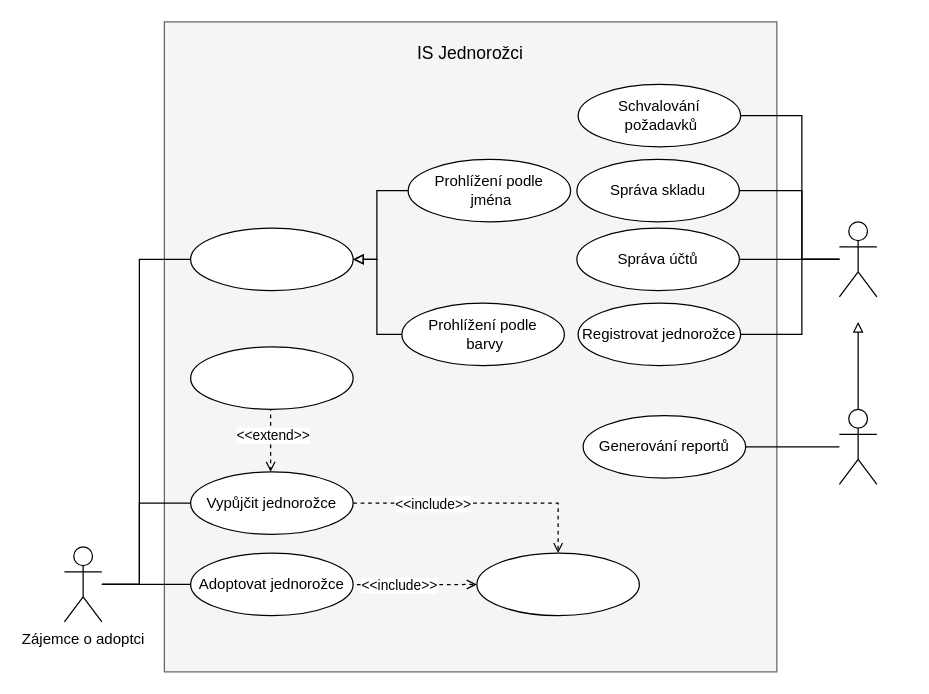
Some shapes in this 929 by 694 pixel diagram are drawn without their labels. Each missing label, with the centre of its shape:
"Městská rada" goes at (857,446).
"Nákup vloček" goes at (271,377).
"Prohlížení jednorožců" goes at (271,259).
"Přihlášení" goes at (557,584).
"Správce útulku" goes at (857,259).
